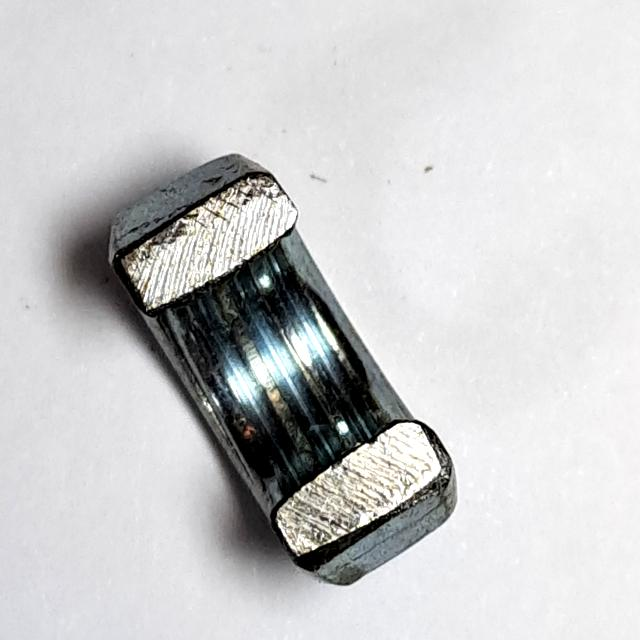Side-Fracture: (94, 141, 474, 598)
